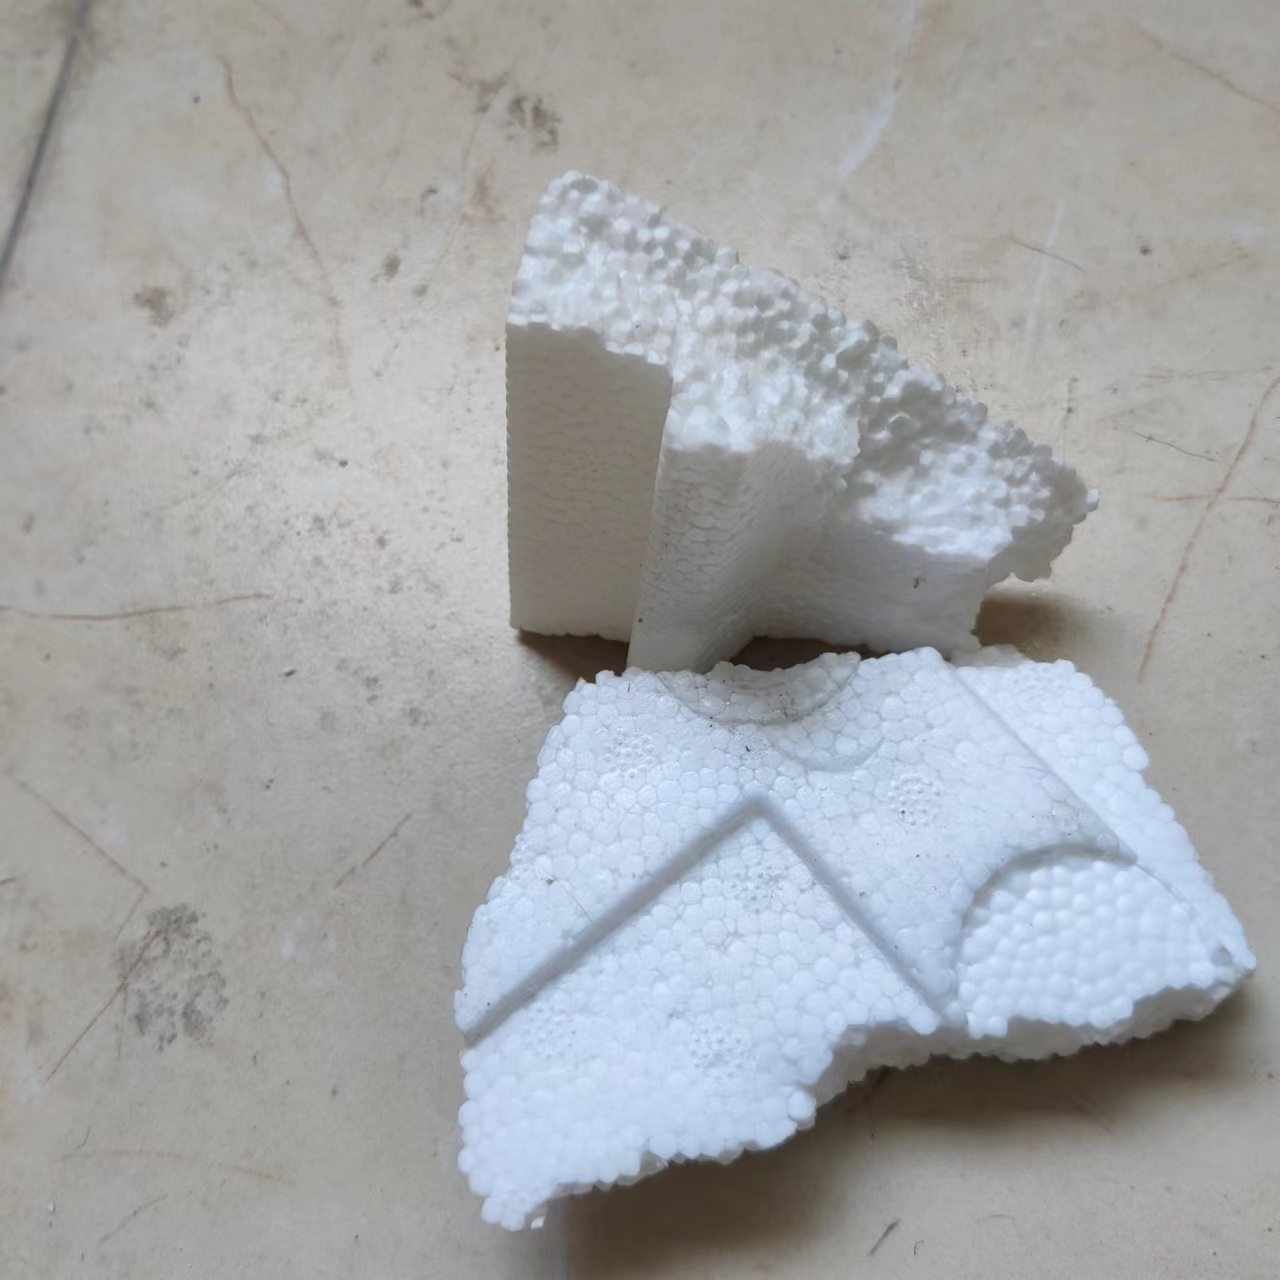5/可回收垃圾/泡沫: (448, 644, 1258, 1231), (499, 171, 1099, 675)
